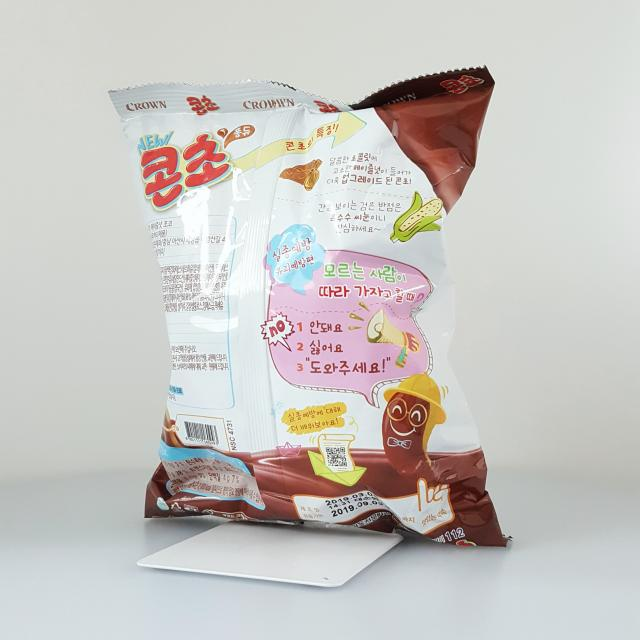-66G: (109, 65, 515, 548)
